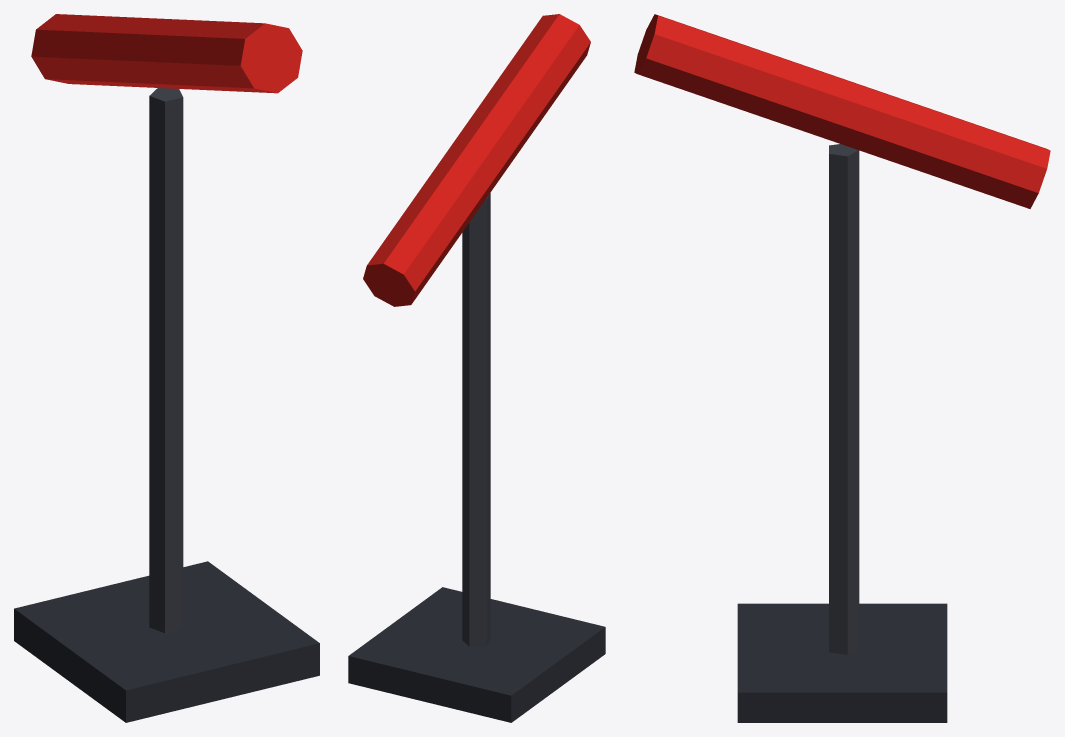
Rendered from telescope_stand.glb.
The picture shows the model from 3 angles, left to right: view 1: azimuth 30°, elevation 25°; view 2: azimuth 150°, elevation 25°; view 3: azimuth 270°, elevation 25°; orthographic projection. The views are drawn at different scales.
Parts seen in each view (by area): view 1: telescope_stand; view 2: telescope_stand; view 3: telescope_stand.
Boxes of the visible parts, bbox=[...] form: telescope_stand: bbox=[14, 14, 319, 722]; telescope_stand: bbox=[348, 14, 605, 722]; telescope_stand: bbox=[634, 14, 1050, 722].
Size of the model in its own units: 0.5 by 1.75 by 0.9918.
